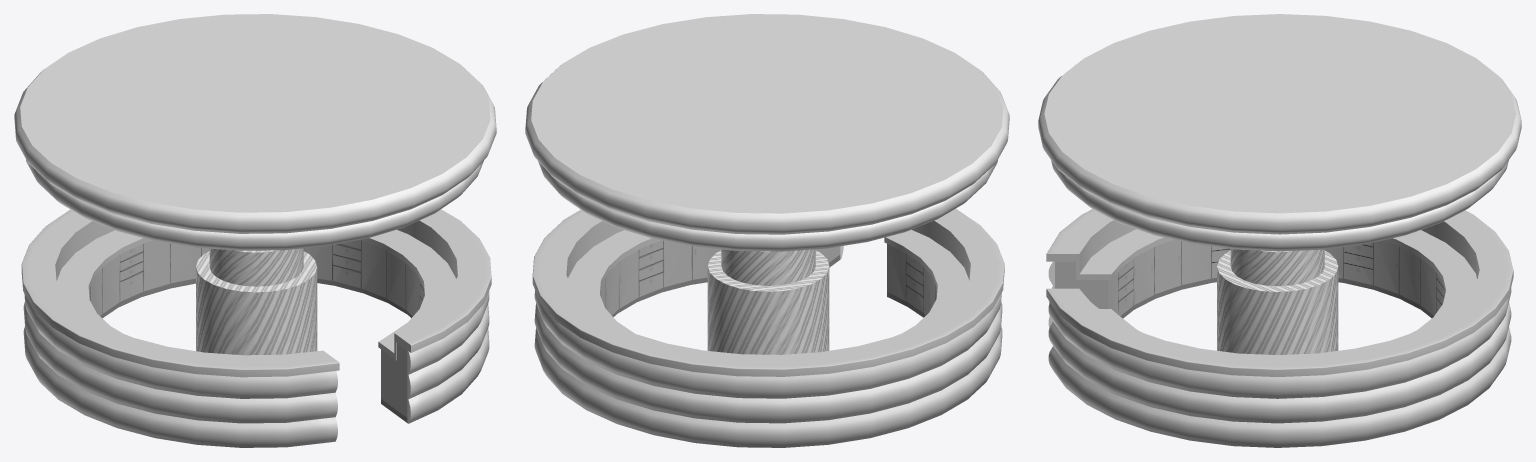
File: Bar03_2.FBX
3 renders of one model, left to right at view 1: azimuth 30°, elevation 25°; view 2: azimuth 150°, elevation 25°; view 3: azimuth 270°, elevation 25°, orthographic.
Visible parts, largest first — view 1: Bar03_2; view 2: Bar03_2; view 3: Bar03_2.
Part boxes in pixels (<box>): Bar03_2: <box>14,14,496,447</box>; Bar03_2: <box>525,14,1009,447</box>; Bar03_2: <box>1038,14,1521,447</box>.
Bounding box in the file's own units: 646 × 350 × 646.
